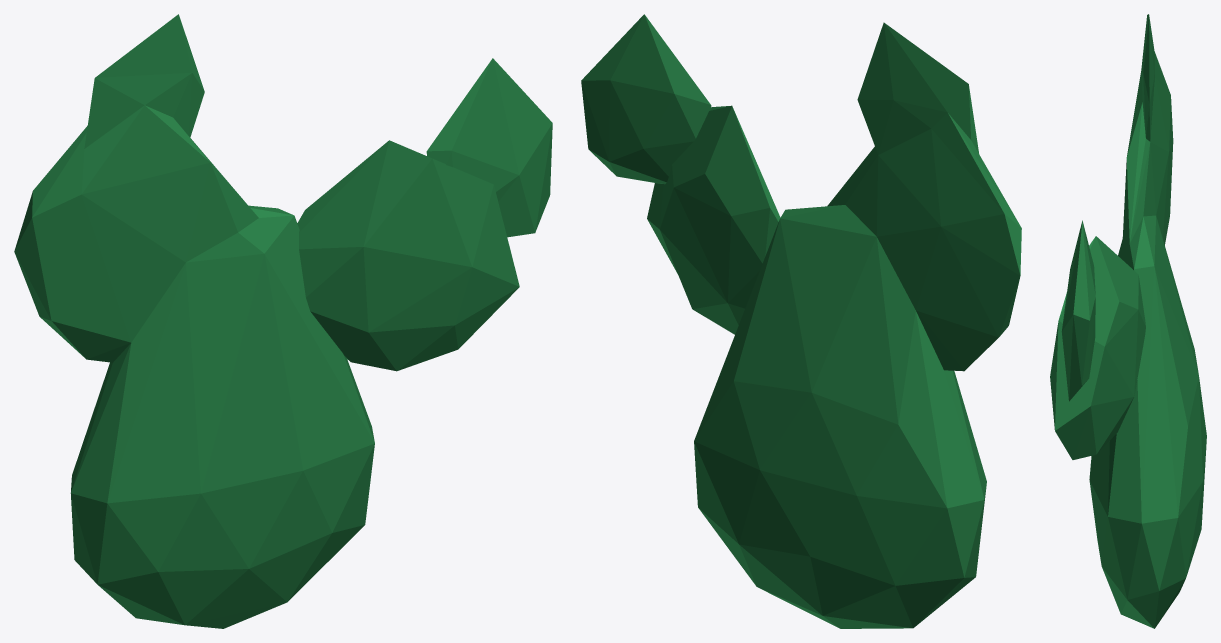
File: cactus1.fbx
The picture shows the model from 3 angles, left to right: view 1: azimuth 30°, elevation 25°; view 2: azimuth 150°, elevation 25°; view 3: azimuth 270°, elevation 25°; orthographic projection. The views are drawn at different scales.
Visible parts, largest first — view 1: cactus1; view 2: cactus1; view 3: cactus1.
Part boxes in pixels (x1,y1,x2,y2): cactus1: (14, 14, 552, 628); cactus1: (581, 14, 1021, 628); cactus1: (1050, 14, 1206, 628).
Bounding box in the file's own units: 84.51 × 103 × 25.23.
